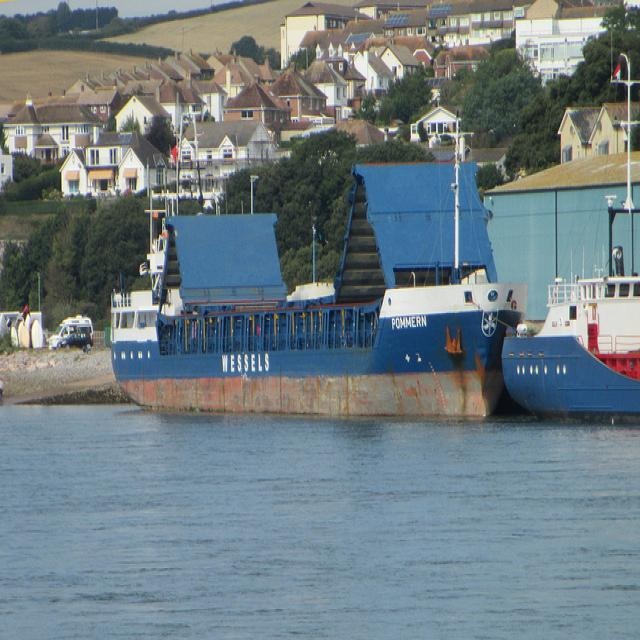Vehicle: (48, 314, 94, 352), (57, 331, 94, 351)
